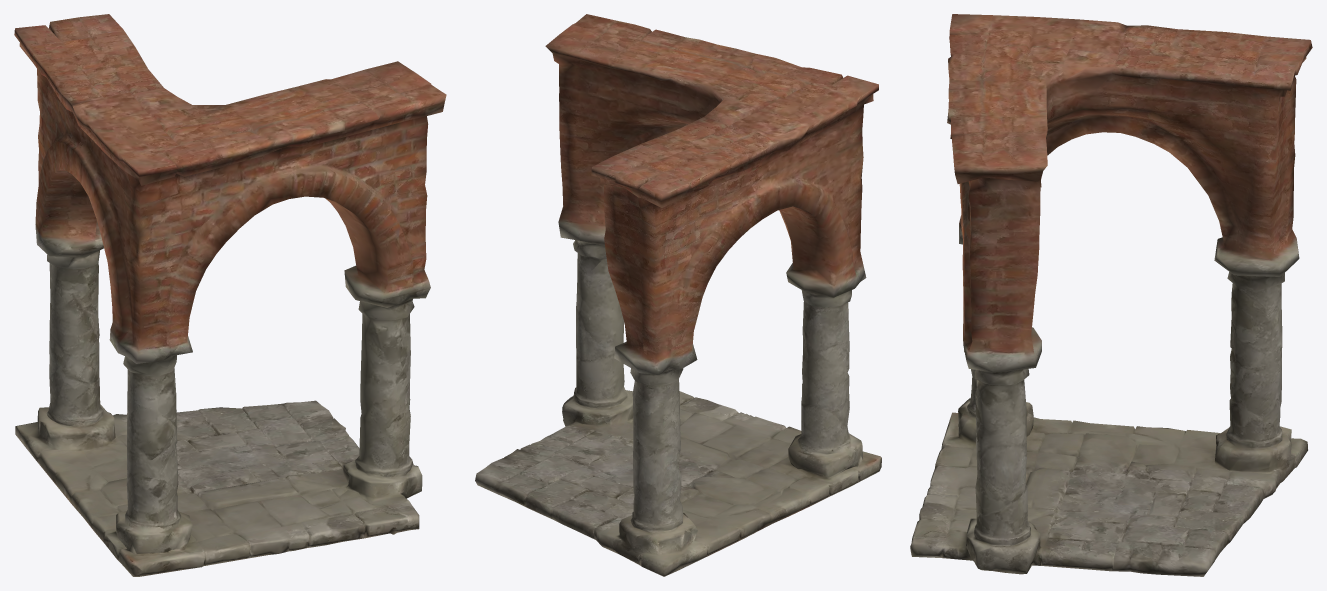
The model's file is portico_module.glb.
3 views of the same model, side by side, from view 1: azimuth 30°, elevation 25°; view 2: azimuth 150°, elevation 25°; view 3: azimuth 270°, elevation 25° (orthographic). The views are drawn at different scales.
Visible parts, largest first — view 1: tripo_node_d4806249-6cbd-4cf1-ada7-30c08e967478; view 2: tripo_node_d4806249-6cbd-4cf1-ada7-30c08e967478; view 3: tripo_node_d4806249-6cbd-4cf1-ada7-30c08e967478.
Boxes of the visible parts, bbox=[...] form: tripo_node_d4806249-6cbd-4cf1-ada7-30c08e967478: bbox=[14, 14, 446, 576]; tripo_node_d4806249-6cbd-4cf1-ada7-30c08e967478: bbox=[475, 14, 881, 576]; tripo_node_d4806249-6cbd-4cf1-ada7-30c08e967478: bbox=[910, 14, 1312, 576].
Bounding box in the file's own units: 5.17 × 6.5 × 5.66.
Materials: 1 (1 with a texture image).
